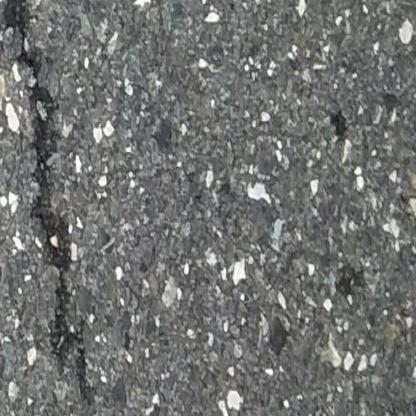Cracks: (0, 0, 121, 416)
